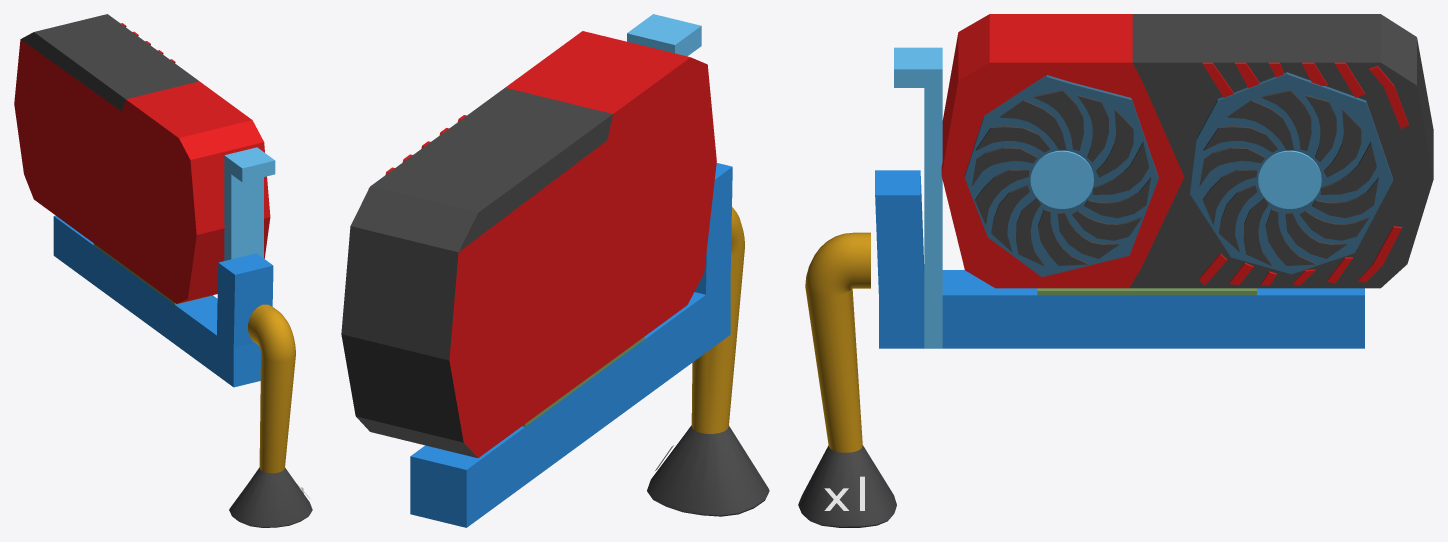
Rendered from makine_2.fbx.
The picture shows the model from 3 angles, left to right: view 1: azimuth 30°, elevation 25°; view 2: azimuth 150°, elevation 25°; view 3: azimuth 270°, elevation 25°; orthographic projection. The views are drawn at different scales.
Visible parts, largest first — view 1: Cube.014, Cube.015, Cylinder.001, Cube.016, Cylinder.003; view 2: Cube.014, Cube.015, Cylinder.003, Cylinder.001, Cube.016; view 3: Cube.014, Cube.015, Vert.001, Vert.016, Cube.001, Cube.002, Cylinder.001, Cube.016, Cylinder.003, Cylinder.002, Cylinder, Cube.019.
Part boxes in pixels (x1,y1,x2,y2): Cube.014: (14, 14, 270, 303); Cube.015: (53, 215, 273, 387); Cylinder.001: (248, 304, 295, 473); Cube.016: (224, 147, 275, 260); Cylinder.003: (229, 467, 312, 527); Cube.014: (341, 31, 716, 457); Cube.015: (410, 163, 732, 527); Cylinder.003: (647, 425, 769, 516); Cylinder.001: (691, 207, 744, 433); Cube.016: (627, 14, 701, 56); Cube.014: (941, 14, 1433, 288); Cube.015: (875, 170, 1364, 348); Vert.001: (972, 90, 1150, 266); Vert.016: (1199, 90, 1378, 266); Cube.001: (1190, 72, 1392, 274); Cube.002: (964, 75, 1158, 277); Cylinder.001: (805, 232, 870, 452); Cube.016: (894, 47, 942, 348); Cylinder.003: (798, 445, 896, 527); Cylinder.002: (1258, 150, 1321, 208); Cylinder: (1030, 150, 1093, 208); Cube.019: (1037, 288, 1256, 295).
Size of the model in its own units: 81.54 by 341 by 421.
